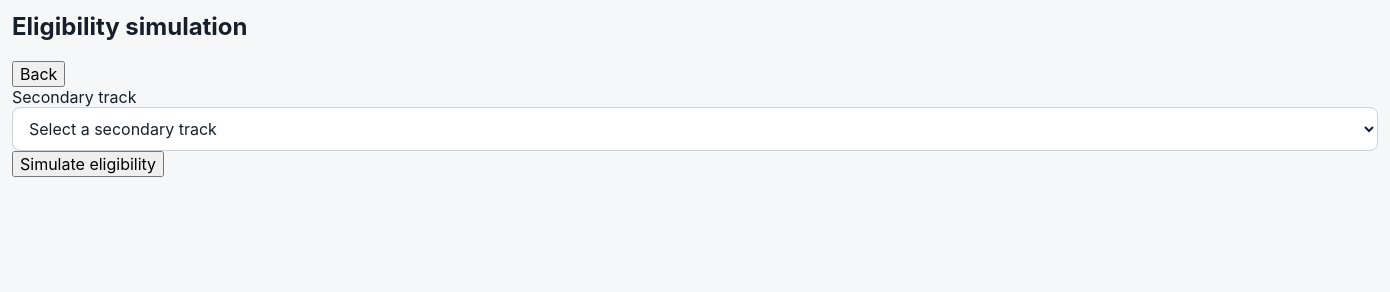
Test: displays eligible courses for a valid secondary track
Select "Science and Technology" in the dropdown labelled "Secondary track" at [695, 129], box [12, 107, 1378, 151]
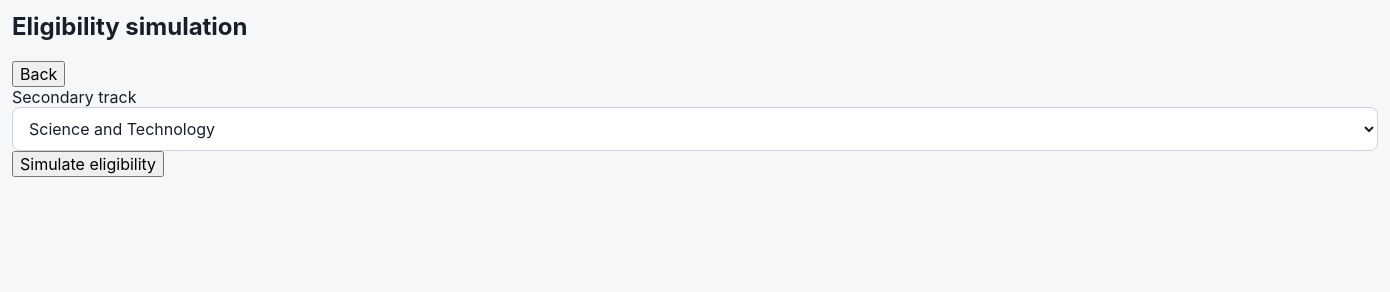
Click the button "Simulate eligibility" at [88, 164], box [12, 151, 164, 177]
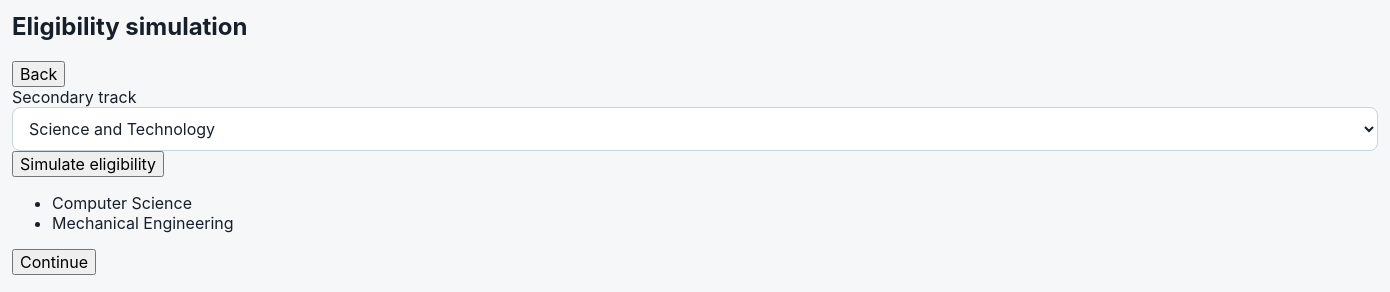
Now the list item "Computer Science" is shown, box [52, 193, 192, 213]
Now the list item "Mechanical Engineering" is shown, box [52, 213, 234, 233]
